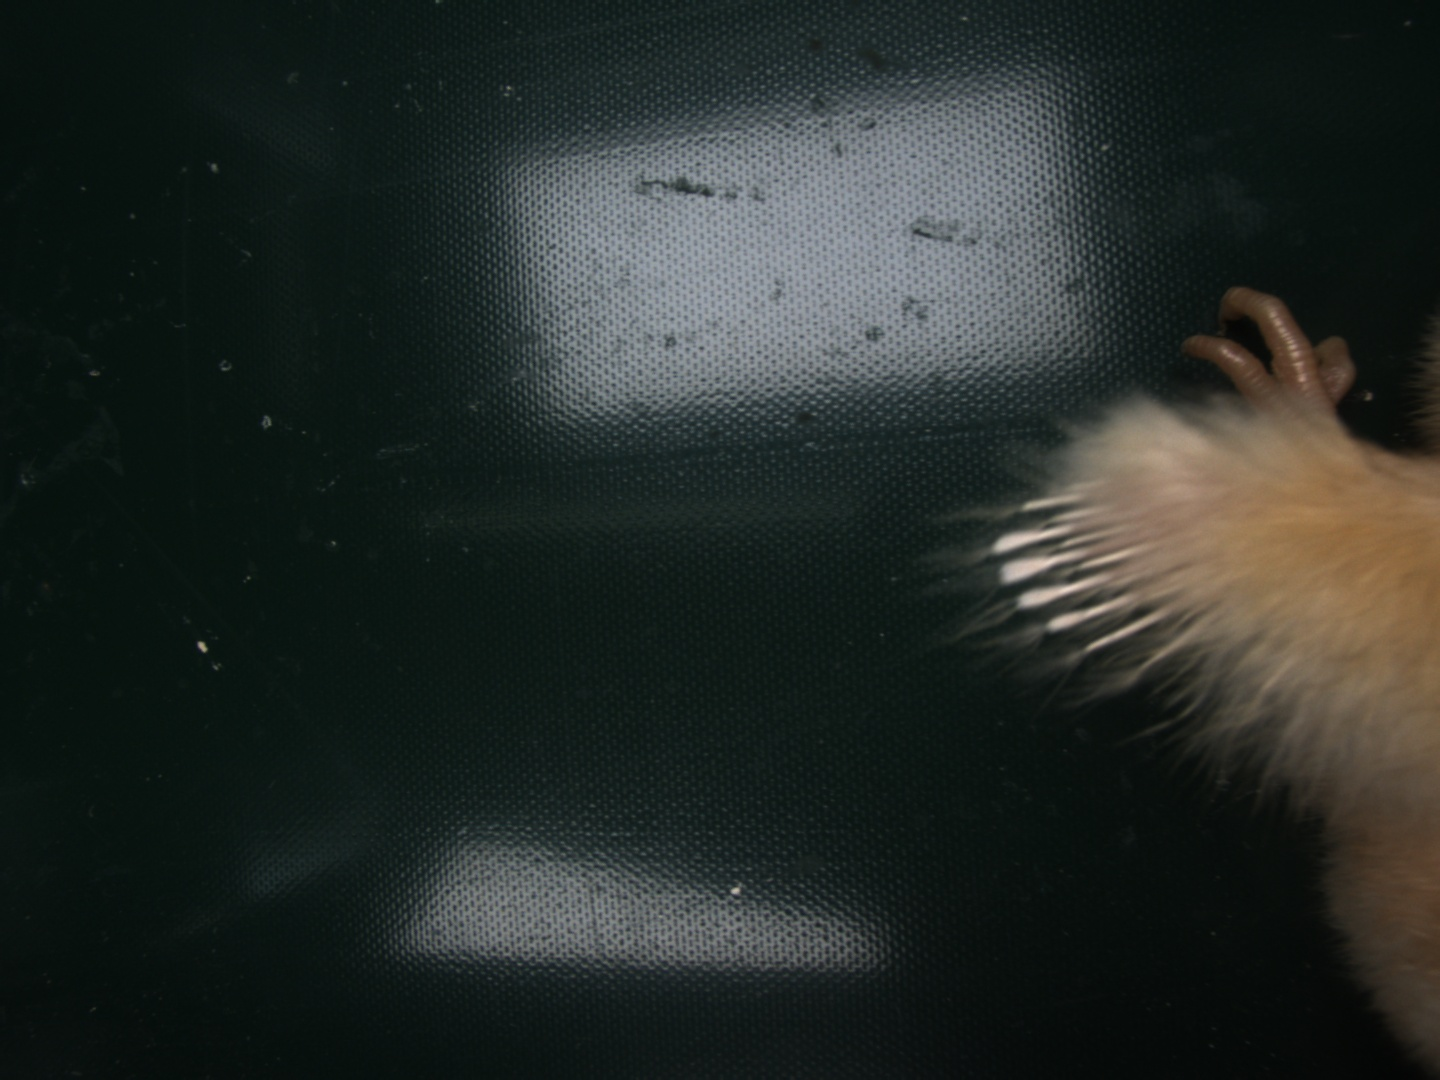female: (986, 475, 1222, 680)
